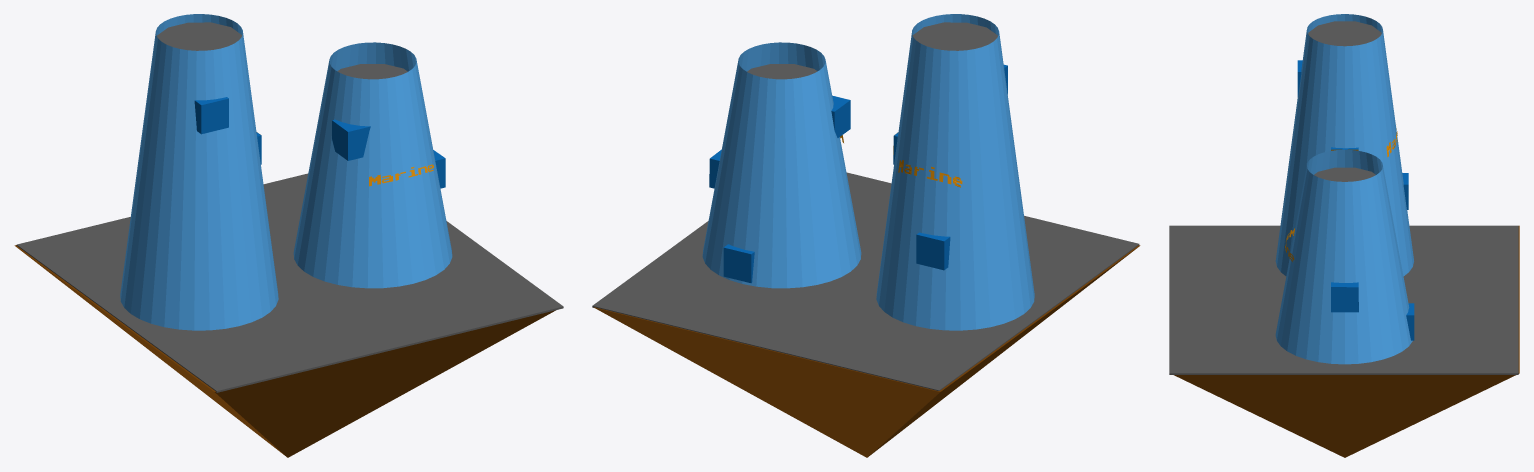
Rendered from Shells Town.gltf.
The picture shows the model from 3 angles, left to right: view 1: azimuth 30°, elevation 25°; view 2: azimuth 150°, elevation 25°; view 3: azimuth 270°, elevation 25°; orthographic projection. The views are drawn at different scales.
Visible parts, largest first — view 1: cube, Base, Base.001, pyramid, Tampa, Janela_3.001, Janela_3, Tampa 2; view 2: Base, cube, Base.001, pyramid, Tampa, Janela_2, Janela_2.001, Tampa 2, Janela_3.001; view 3: cube, Base.001, Base, pyramid, Tampa, Janela_1.001, Tampa 2.
Part boxes in pixels (box(x1,y1,x2,y2)): cube: box(16, 173, 563, 392); Base: box(120, 14, 278, 330); Base.001: box(293, 42, 452, 288); pyramid: box(14, 245, 555, 457); Tampa: box(157, 22, 242, 50); Janela_3.001: box(332, 119, 370, 160); Janela_3: box(194, 97, 228, 134); Tampa 2: box(337, 64, 407, 79); Base: box(876, 14, 1034, 330); cube: box(592, 172, 1139, 390); Base.001: box(702, 42, 861, 288); pyramid: box(594, 245, 1140, 457); Tampa: box(912, 22, 997, 50); Janela_2: box(916, 232, 950, 270); Janela_2.001: box(723, 244, 754, 283); Tampa 2: box(747, 64, 817, 79); Janela_3.001: box(831, 95, 850, 137); cube: box(1169, 225, 1518, 374); Base.001: box(1275, 149, 1412, 364); Base: box(1275, 14, 1413, 276); pyramid: box(1174, 225, 1519, 457); Tampa: box(1308, 21, 1381, 46); Janela_1.001: box(1331, 282, 1358, 312); Tampa 2: box(1314, 167, 1375, 181).
Bounding box in the file's own units: 25.12 × 30.8 × 25.06.
6 materials, 6 textured.
